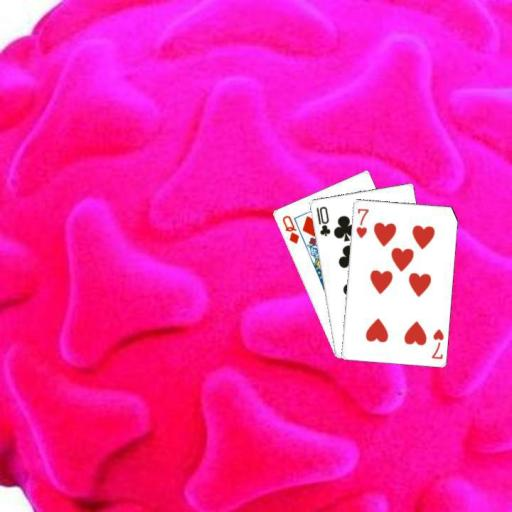10C: (313, 203, 331, 238)
7H: (353, 205, 370, 240), (428, 326, 445, 361)
QD: (279, 212, 300, 245)
